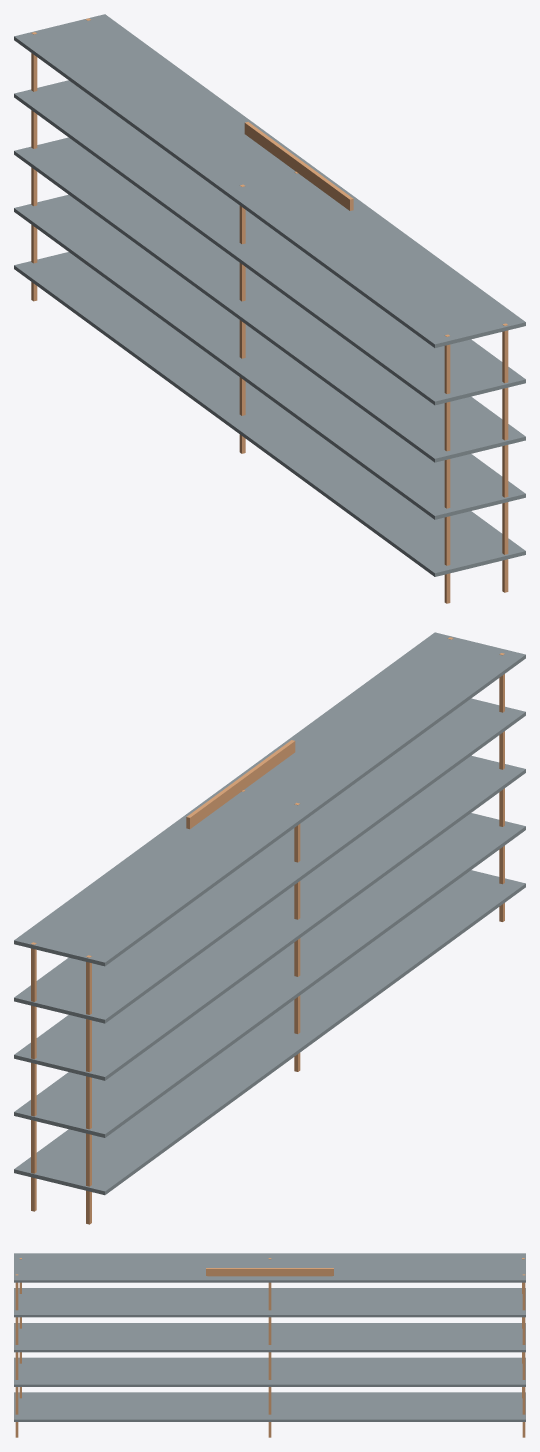
Rendered from shelf.glb.
3 views of the same model, one above another, from view 1: azimuth 30°, elevation 25°; view 2: azimuth 150°, elevation 25°; view 3: azimuth 270°, elevation 25° (orthographic). The views are drawn at different scales.
Visible parts, largest first — view 1: Box5, Box1, Box2, Box3, Box, Box6, Box11, Box8, Box10, Box7; view 2: Box5, Box2, Box3, Box, Box1, Box11, Box4, Box7, Box10, Box8; view 3: Box2, Box, Box3, Box1, Box5, Box12, Box4, Box6, Box9, Box11.
Boxes of the visible parts, x1=… form: Box5: x1=14, y1=14, x2=525, y2=347; Box1: x1=14, y1=194, x2=525, y2=519; Box2: x1=14, y1=137, x2=525, y2=462; Box3: x1=14, y1=80, x2=525, y2=405; Box: x1=14, y1=252, x2=525, y2=576; Box6: x1=502, y1=323, x2=508, y2=592; Box11: x1=244, y1=122, x2=353, y2=210; Box8: x1=444, y1=334, x2=450, y2=603; Box10: x1=239, y1=184, x2=245, y2=453; Box7: x1=31, y1=32, x2=37, y2=301; Box5: x1=14, y1=632, x2=525, y2=966; Box2: x1=14, y1=755, x2=525, y2=1080; Box3: x1=14, y1=698, x2=525, y2=1023; Box: x1=14, y1=870, x2=525, y2=1195; Box1: x1=14, y1=813, x2=525, y2=1137; Box11: x1=186, y1=740, x2=295, y2=829; Box4: x1=31, y1=942, x2=36, y2=1211; Box7: x1=86, y1=955, x2=91, y2=1224; Box10: x1=294, y1=802, x2=300, y2=1071; Box8: x1=499, y1=653, x2=504, y2=921; Box2: x1=14, y1=1323, x2=525, y2=1352; Box: x1=14, y1=1392, x2=525, y2=1421; Box3: x1=14, y1=1288, x2=525, y2=1317; Box1: x1=14, y1=1357, x2=525, y2=1386; Box5: x1=14, y1=1253, x2=525, y2=1282; Box12: x1=207, y1=1270, x2=332, y2=1276; Box4: x1=522, y1=1274, x2=525, y2=1437; Box6: x1=15, y1=1274, x2=18, y2=1437; Box9: x1=268, y1=1282, x2=271, y2=1437; Box11: x1=206, y1=1268, x2=333, y2=1275.
Size of the model in its own units: 0.5 by 1.46 by 4.
